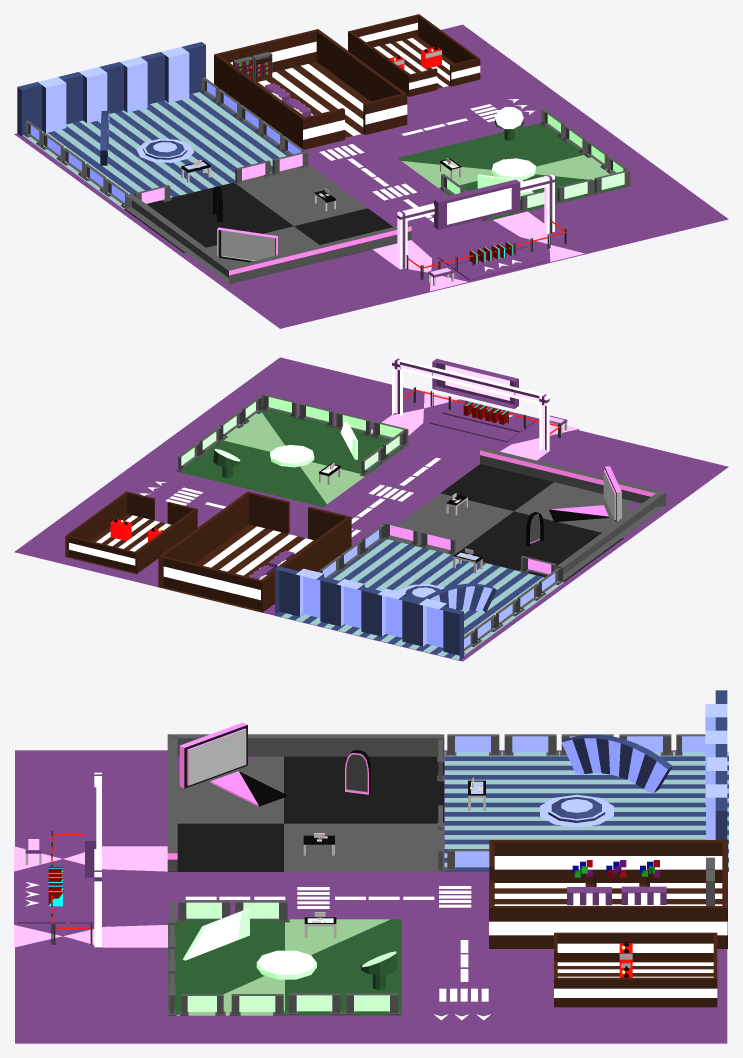
File: Level (01).fbx
3 views of the same model, one above another, from view 1: azimuth 30°, elevation 25°; view 2: azimuth 150°, elevation 25°; view 3: azimuth 270°, elevation 25° (orthographic). The views are drawn at different scales.
Parts seen in each view (by area): view 1: Plane.009, Cube.085, Plane.003, Plane, Cube.029, Plane.004, Plane.002, Cube.083, Cube.075, Cube, Cube.001, Cube.002 (+8 smaller); view 2: Plane.009, Cube.085, Plane, Plane.002, Cube.029, Plane.003, Plane.004, Cube.083, Cube.075, Cube, Cube.001, Cube.037 (+12 smaller); view 3: Plane.009, Plane, Cube.085, Plane.003, Plane.002, Plane.004, Cube.083, Cube.001, Cube.037, Cube.029, Cube.002, Cube.075 (+23 smaller).
Part boxes in pixels (<box>): Plane.009: <box>14,24,728,328</box>; Cube.085: <box>214,29,407,149</box>; Plane.003: <box>23,91,289,209</box>; Plane: <box>124,165,392,275</box>; Cube.029: <box>17,42,205,136</box>; Plane.004: <box>372,211,584,291</box>; Plane.002: <box>397,122,631,221</box>; Cube.083: <box>348,14,480,96</box>; Cube.075: <box>397,174,554,269</box>; Cube: <box>229,224,411,284</box>; Cube.001: <box>125,193,231,284</box>; Cube.002: <box>217,227,277,262</box>; Plane.009: <box>14,357,728,661</box>; Cube.085: <box>158,491,351,612</box>; Plane: <box>385,464,630,581</box>; Plane.002: <box>175,409,407,507</box>; Cube.029: <box>275,566,463,660</box>; Plane.003: <box>274,538,563,659</box>; Plane.004: <box>371,391,579,460</box>; Cube.083: <box>65,491,197,574</box>; Cube.075: <box>392,358,549,452</box>; Cube: <box>480,447,665,503</box>; Cube.001: <box>556,492,666,581</box>; Cube.037: <box>420,583,496,612</box>; Plane.009: <box>15,750,727,1043</box>; Plane: <box>168,756,444,871</box>; Cube.085: <box>489,840,727,948</box>; Plane.003: <box>444,751,728,871</box>; Plane.002: <box>168,919,401,1015</box>; Plane.004: <box>14,846,167,947</box>; Cube.083: <box>554,932,717,1007</box>; Cube.001: <box>168,734,444,756</box>; Cube.037: <box>561,734,672,792</box>; Cube.029: <box>705,690,727,839</box>; Cube.002: <box>179,722,247,788</box>; Cube.075: <box>85,772,101,947</box>.
Size of the model in its own units: 3448 by 464 by 3555.
